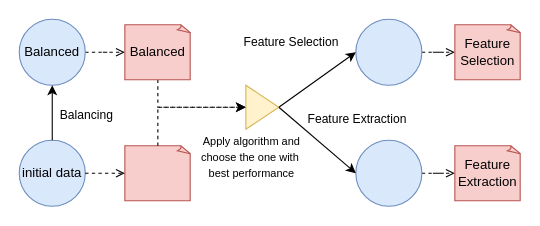
The diagram is 540 pixels wide and 226 high, and some of its shapes have lost their labels. Here are the shapes that lost their labels. From the top down, the box of each, then its label:
(355, 18, 422, 85): after FS
(124, 145, 191, 201): Original
(355, 139, 422, 206): after Extraction
